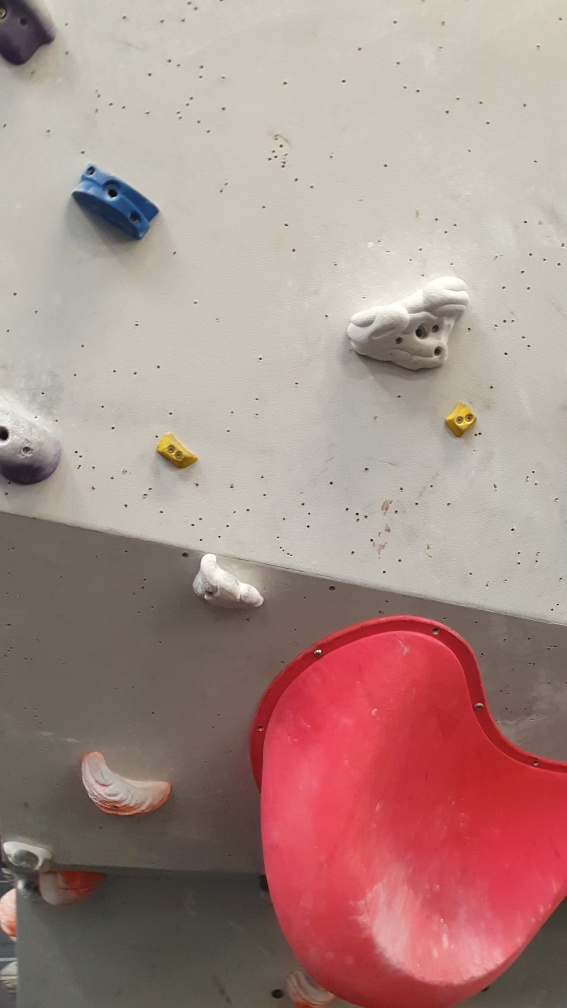Crimp: (151, 429, 200, 476)
Jug: (338, 275, 480, 371), (79, 750, 177, 824), (187, 543, 269, 609)
Pinch: (71, 160, 159, 242), (442, 398, 484, 443)
Sloper: (1, 395, 74, 495)
